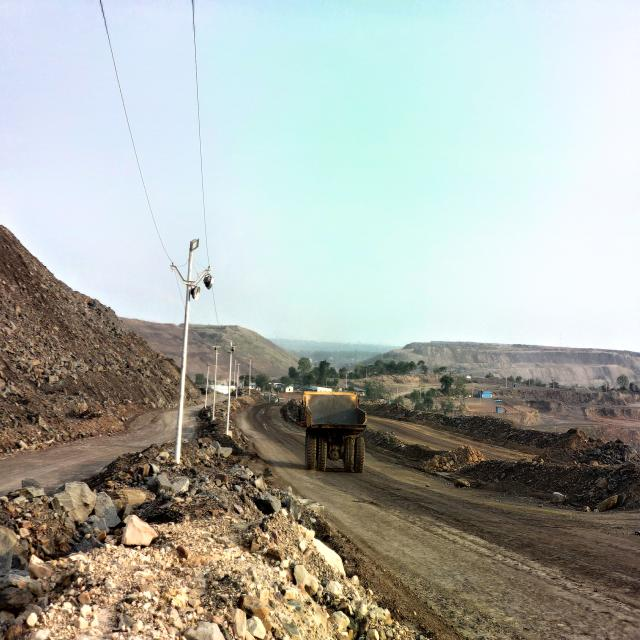dump_truck: (296, 390, 366, 472)
